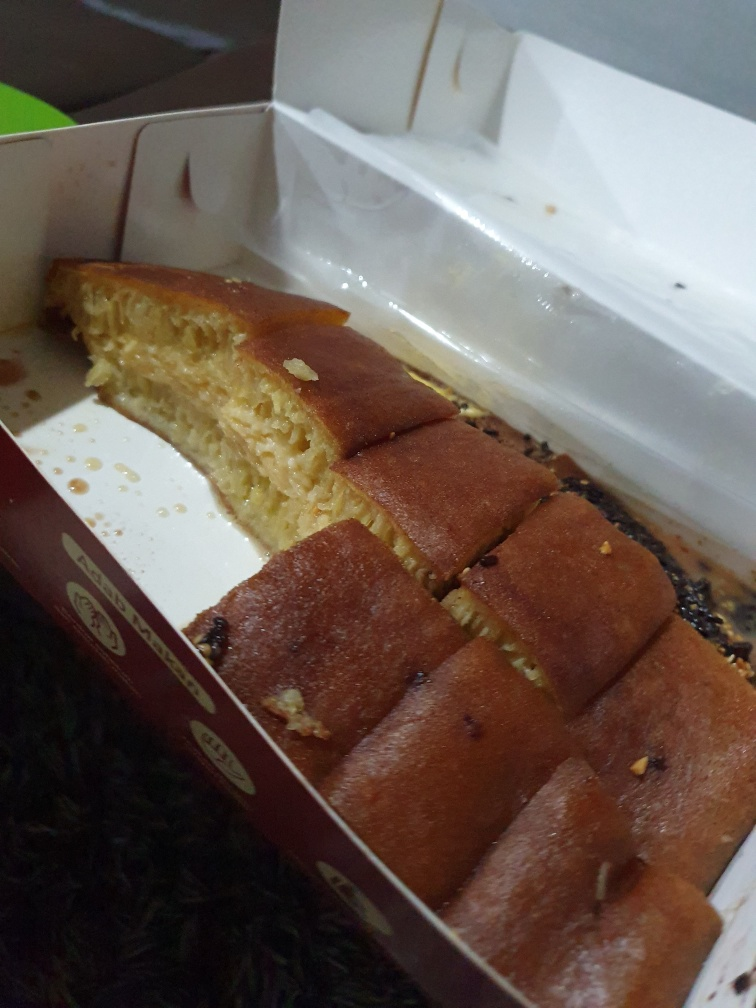martabak manis: (200, 497, 453, 774), (554, 592, 756, 879), (331, 628, 563, 870), (455, 469, 671, 712), (215, 264, 458, 476), (56, 214, 265, 457), (321, 376, 547, 582)
